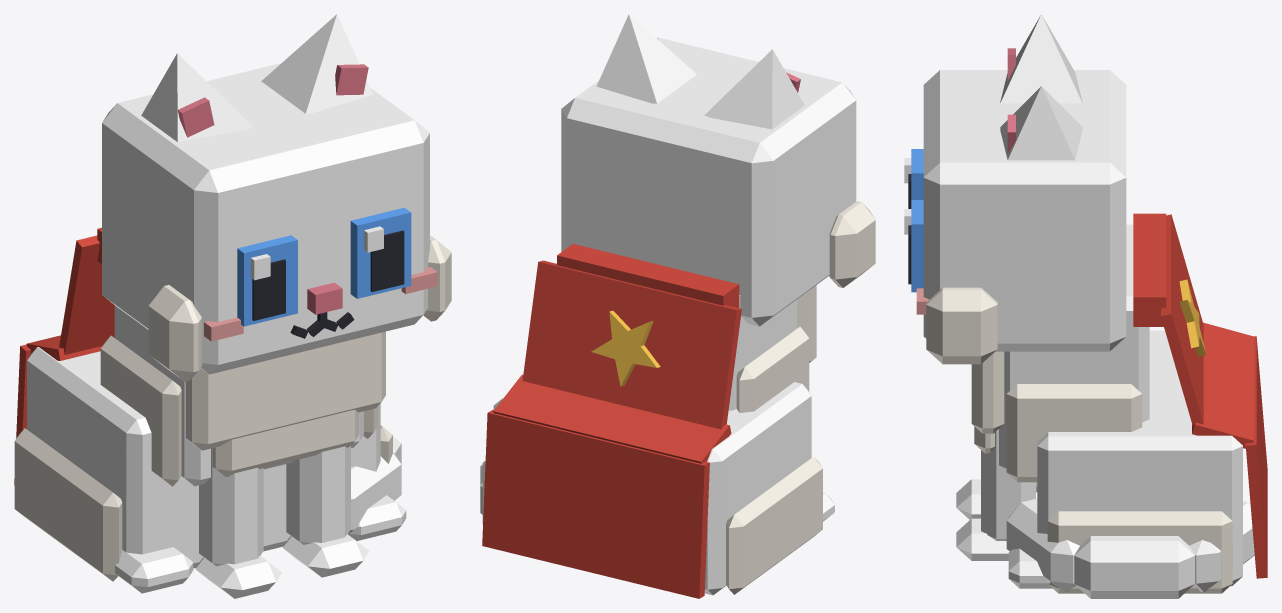
The model's file is CatCafe_Cat_Marshmallow_Sit.glb.
3 views of the same model, side by side, from view 1: azimuth 30°, elevation 25°; view 2: azimuth 150°, elevation 25°; view 3: azimuth 270°, elevation 25° (orthographic). The views are drawn at different scales.
Parts seen in each view (by area): view 1: CatCafe_Cat_Marshmallow_Sit_Head, CatCafe_Cat_Marshmallow_Sit_Body, CatCafe_Cat_Marshmallow_Sit_LegF2, CatCafe_Cat_Marshmallow_Sit_LegF1, CatCafe_Cat_Marshmallow_Sit_EarL, CatCafe_Cat_Marshmallow_Sit_Prop, CatCafe_Cat_Marshmallow_Sit_EarR, CatCafe_Cat_Marshmallow_Sit_Eye1, CatCafe_Cat_Marshmallow_Sit_Eye2, CatCafe_Cat_Marshmallow_Sit_Tail; view 2: CatCafe_Cat_Marshmallow_Sit_Prop, CatCafe_Cat_Marshmallow_Sit_Head, CatCafe_Cat_Marshmallow_Sit_Body, CatCafe_Cat_Marshmallow_Sit_EarL, CatCafe_Cat_Marshmallow_Sit_EarR; view 3: CatCafe_Cat_Marshmallow_Sit_Head, CatCafe_Cat_Marshmallow_Sit_Body, CatCafe_Cat_Marshmallow_Sit_Prop, CatCafe_Cat_Marshmallow_Sit_Tail, CatCafe_Cat_Marshmallow_Sit_LegF1, CatCafe_Cat_Marshmallow_Sit_EarL, CatCafe_Cat_Marshmallow_Sit_EarR, CatCafe_Cat_Marshmallow_Sit_Eye1, CatCafe_Cat_Marshmallow_Sit_Eye2, CatCafe_Cat_Marshmallow_Sit_LegF2.
Boxes of the visible parts, x1,y1,x2,y2 form: CatCafe_Cat_Marshmallow_Sit_Head: (102,63,451,381); CatCafe_Cat_Marshmallow_Sit_Body: (14,305,406,593); CatCafe_Cat_Marshmallow_Sit_LegF2: (195,448,281,598); CatCafe_Cat_Marshmallow_Sit_LegF1: (283,445,369,577); CatCafe_Cat_Marshmallow_Sit_EarL: (261,14,372,113); CatCafe_Cat_Marshmallow_Sit_Prop: (14,227,114,485); CatCafe_Cat_Marshmallow_Sit_EarR: (141,53,252,142); CatCafe_Cat_Marshmallow_Sit_Eye1: (350,207,411,298); CatCafe_Cat_Marshmallow_Sit_Eye2: (237,235,297,326); CatCafe_Cat_Marshmallow_Sit_Tail: (348,436,401,534); CatCafe_Cat_Marshmallow_Sit_Prop: (482,244,741,598); CatCafe_Cat_Marshmallow_Sit_Head: (561,37,875,326); CatCafe_Cat_Marshmallow_Sit_Body: (482,285,834,595); CatCafe_Cat_Marshmallow_Sit_EarL: (596,14,696,103); CatCafe_Cat_Marshmallow_Sit_EarR: (704,49,804,129); CatCafe_Cat_Marshmallow_Sit_Head: (916,70,1126,364); CatCafe_Cat_Marshmallow_Sit_Body: (971,224,1242,593); CatCafe_Cat_Marshmallow_Sit_Prop: (1133,213,1267,578); CatCafe_Cat_Marshmallow_Sit_Tail: (1006,498,1254,598); CatCafe_Cat_Marshmallow_Sit_LegF1: (956,429,1035,560); CatCafe_Cat_Marshmallow_Sit_EarL: (1000,86,1082,160); CatCafe_Cat_Marshmallow_Sit_EarR: (1000,14,1082,103); CatCafe_Cat_Marshmallow_Sit_Eye1: (904,200,923,292); CatCafe_Cat_Marshmallow_Sit_Eye2: (904,149,923,208); CatCafe_Cat_Marshmallow_Sit_LegF2: (956,479,980,519).
Size of the model in its own units: 1.17 by 1.85 by 1.26.
1 material, 1 textured.
